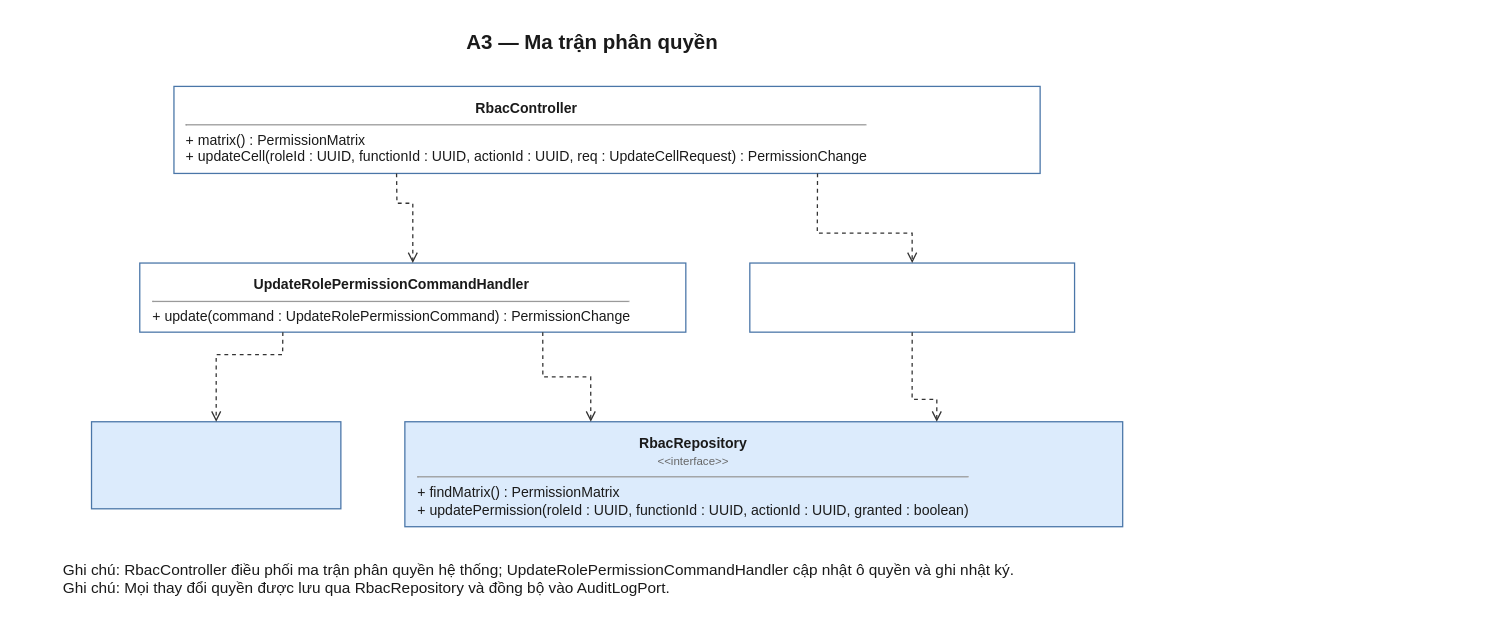
Image size: 1490x630. Some labels were removed from this diagram. The centre of each missing label's shape, as x and y in pixels:
"AuditLogPort <<interface>> + record(entry : AuditEntry)" goes at (x=215, y=464).
"GetPermissionMatrixQueryHandler + get() : PermissionMatrix" goes at (x=912, y=297).
